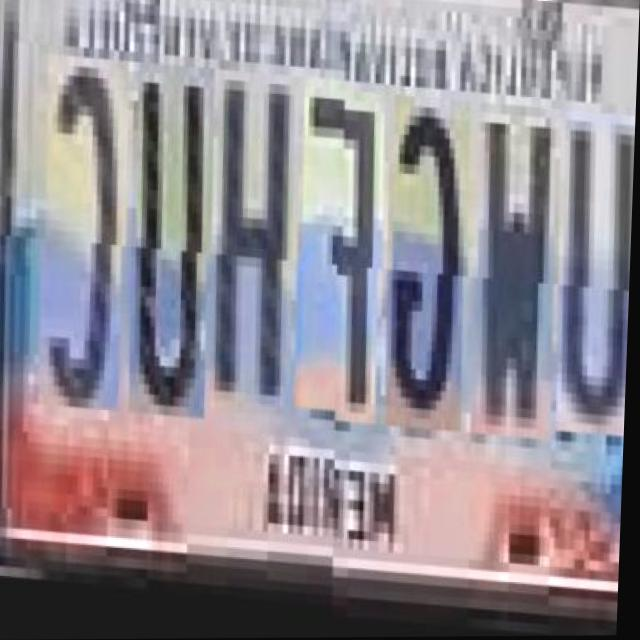c: (32, 76, 130, 433)
f: (290, 94, 386, 431)
g: (380, 100, 471, 437)
h: (204, 87, 300, 435)
u: (123, 83, 216, 439), (551, 111, 637, 439)
w: (465, 107, 563, 444)
